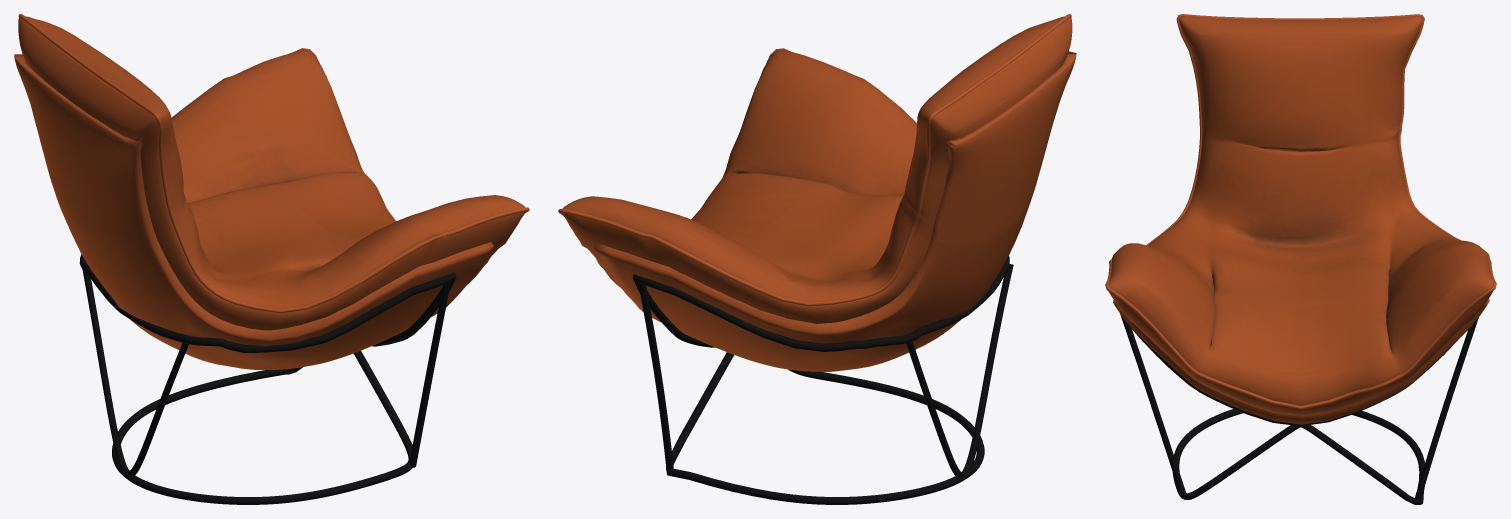
Rendered from XOBC_013.gltf.
The picture shows the model from 3 angles, left to right: view 1: azimuth 30°, elevation 25°; view 2: azimuth 150°, elevation 25°; view 3: azimuth 270°, elevation 25°; orthographic projection. The views are drawn at different scales.
Visible parts, largest first — view 1: brown_sofa_low_poly; view 2: brown_sofa_low_poly; view 3: brown_sofa_low_poly.
Boxes of the visible parts, x1=… form: brown_sofa_low_poly: x1=14, y1=14, x2=529, y2=504; brown_sofa_low_poly: x1=558, y1=14, x2=1076, y2=504; brown_sofa_low_poly: x1=1105, y1=14, x2=1496, y2=504.
Bounding box in the file's own units: 1.21 × 1.36 × 1.28.
1 material, 1 textured.
